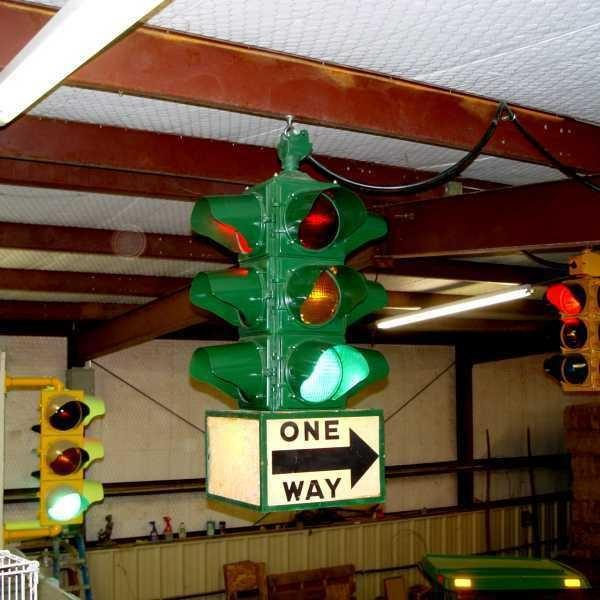red: (288, 331, 347, 407)
